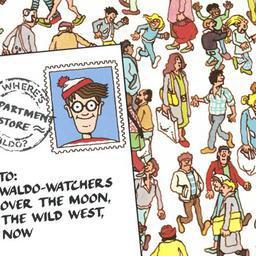waldo: (55, 73, 119, 144)
